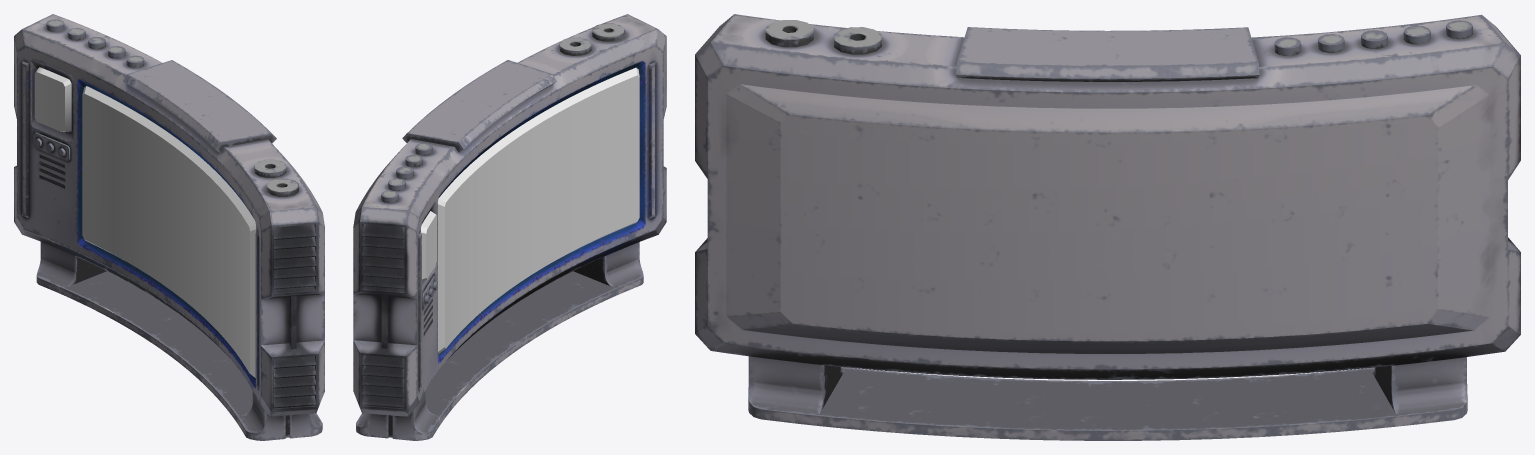
The model's file is Монитор_повреждения.fbx.
3 renders of one model, left to right at view 1: azimuth 30°, elevation 25°; view 2: azimuth 150°, elevation 25°; view 3: azimuth 270°, elevation 25°, orthographic. The views are drawn at different scales.
Parts seen in each view (by area): view 1: Low_poly; view 2: Low_poly; view 3: Low_poly.
Boxes of the visible parts, x1,y1,x2,y2 form: Low_poly: [14, 14, 324, 440]; Low_poly: [353, 14, 666, 440]; Low_poly: [695, 14, 1520, 440].
Size of the model in its own units: 41.66 by 201 by 99.03.
2 materials, 1 textured.
